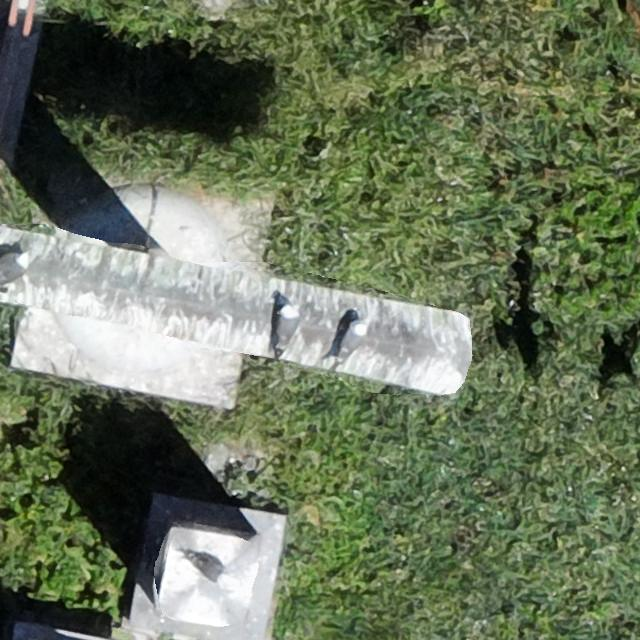umineko: (334, 321, 368, 370), (192, 554, 225, 581), (1, 253, 27, 280), (276, 304, 294, 343)
